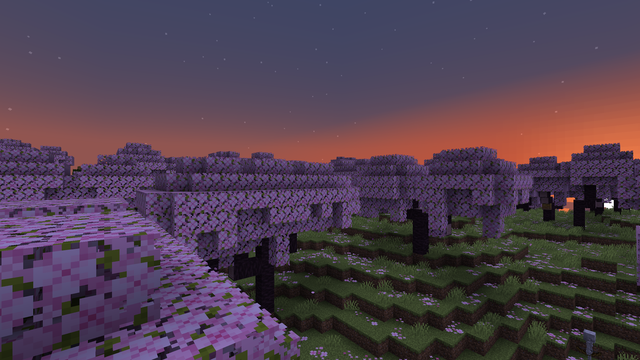squelettes: (582, 328, 596, 359)
